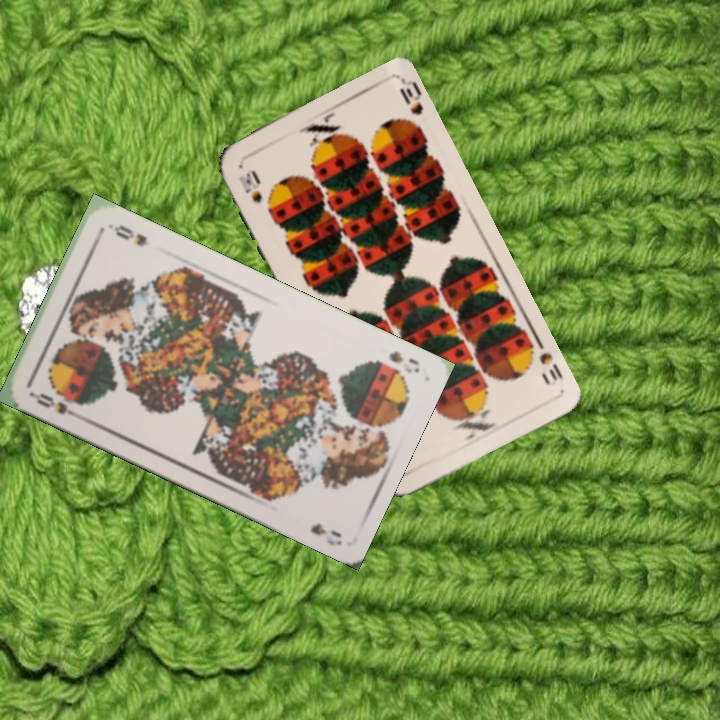S10: (234, 168, 265, 206), (535, 348, 566, 384)
SO: (26, 388, 82, 421), (385, 347, 423, 376)
